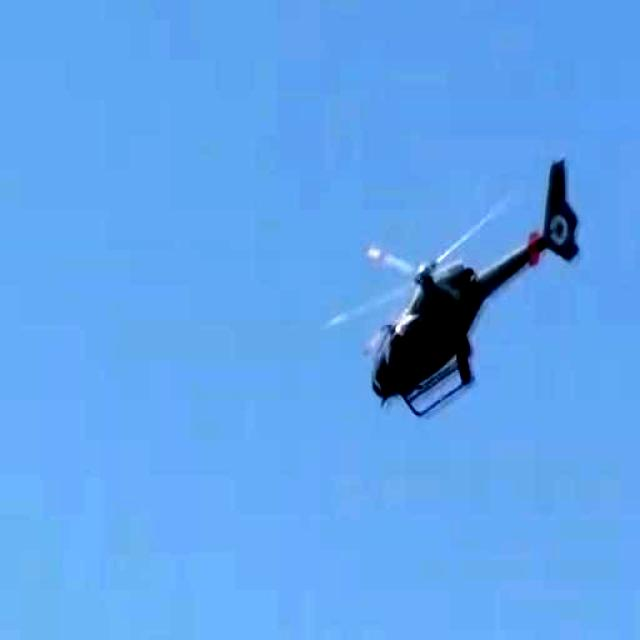drone: (339, 155, 594, 426)
